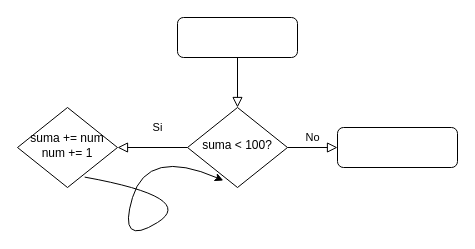
This 475x249 diagram has some shape labels left out. The shapes that lost their labels are listed below. From the top down, each one's box as (x1, y1, x2, y2) in pixels, then its label:
(176, 16, 298, 58): Inicializar: suma = 0 |num = 0
(336, 126, 458, 168): Print resultat
